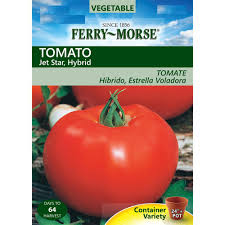tomato: (43, 104, 177, 217)
